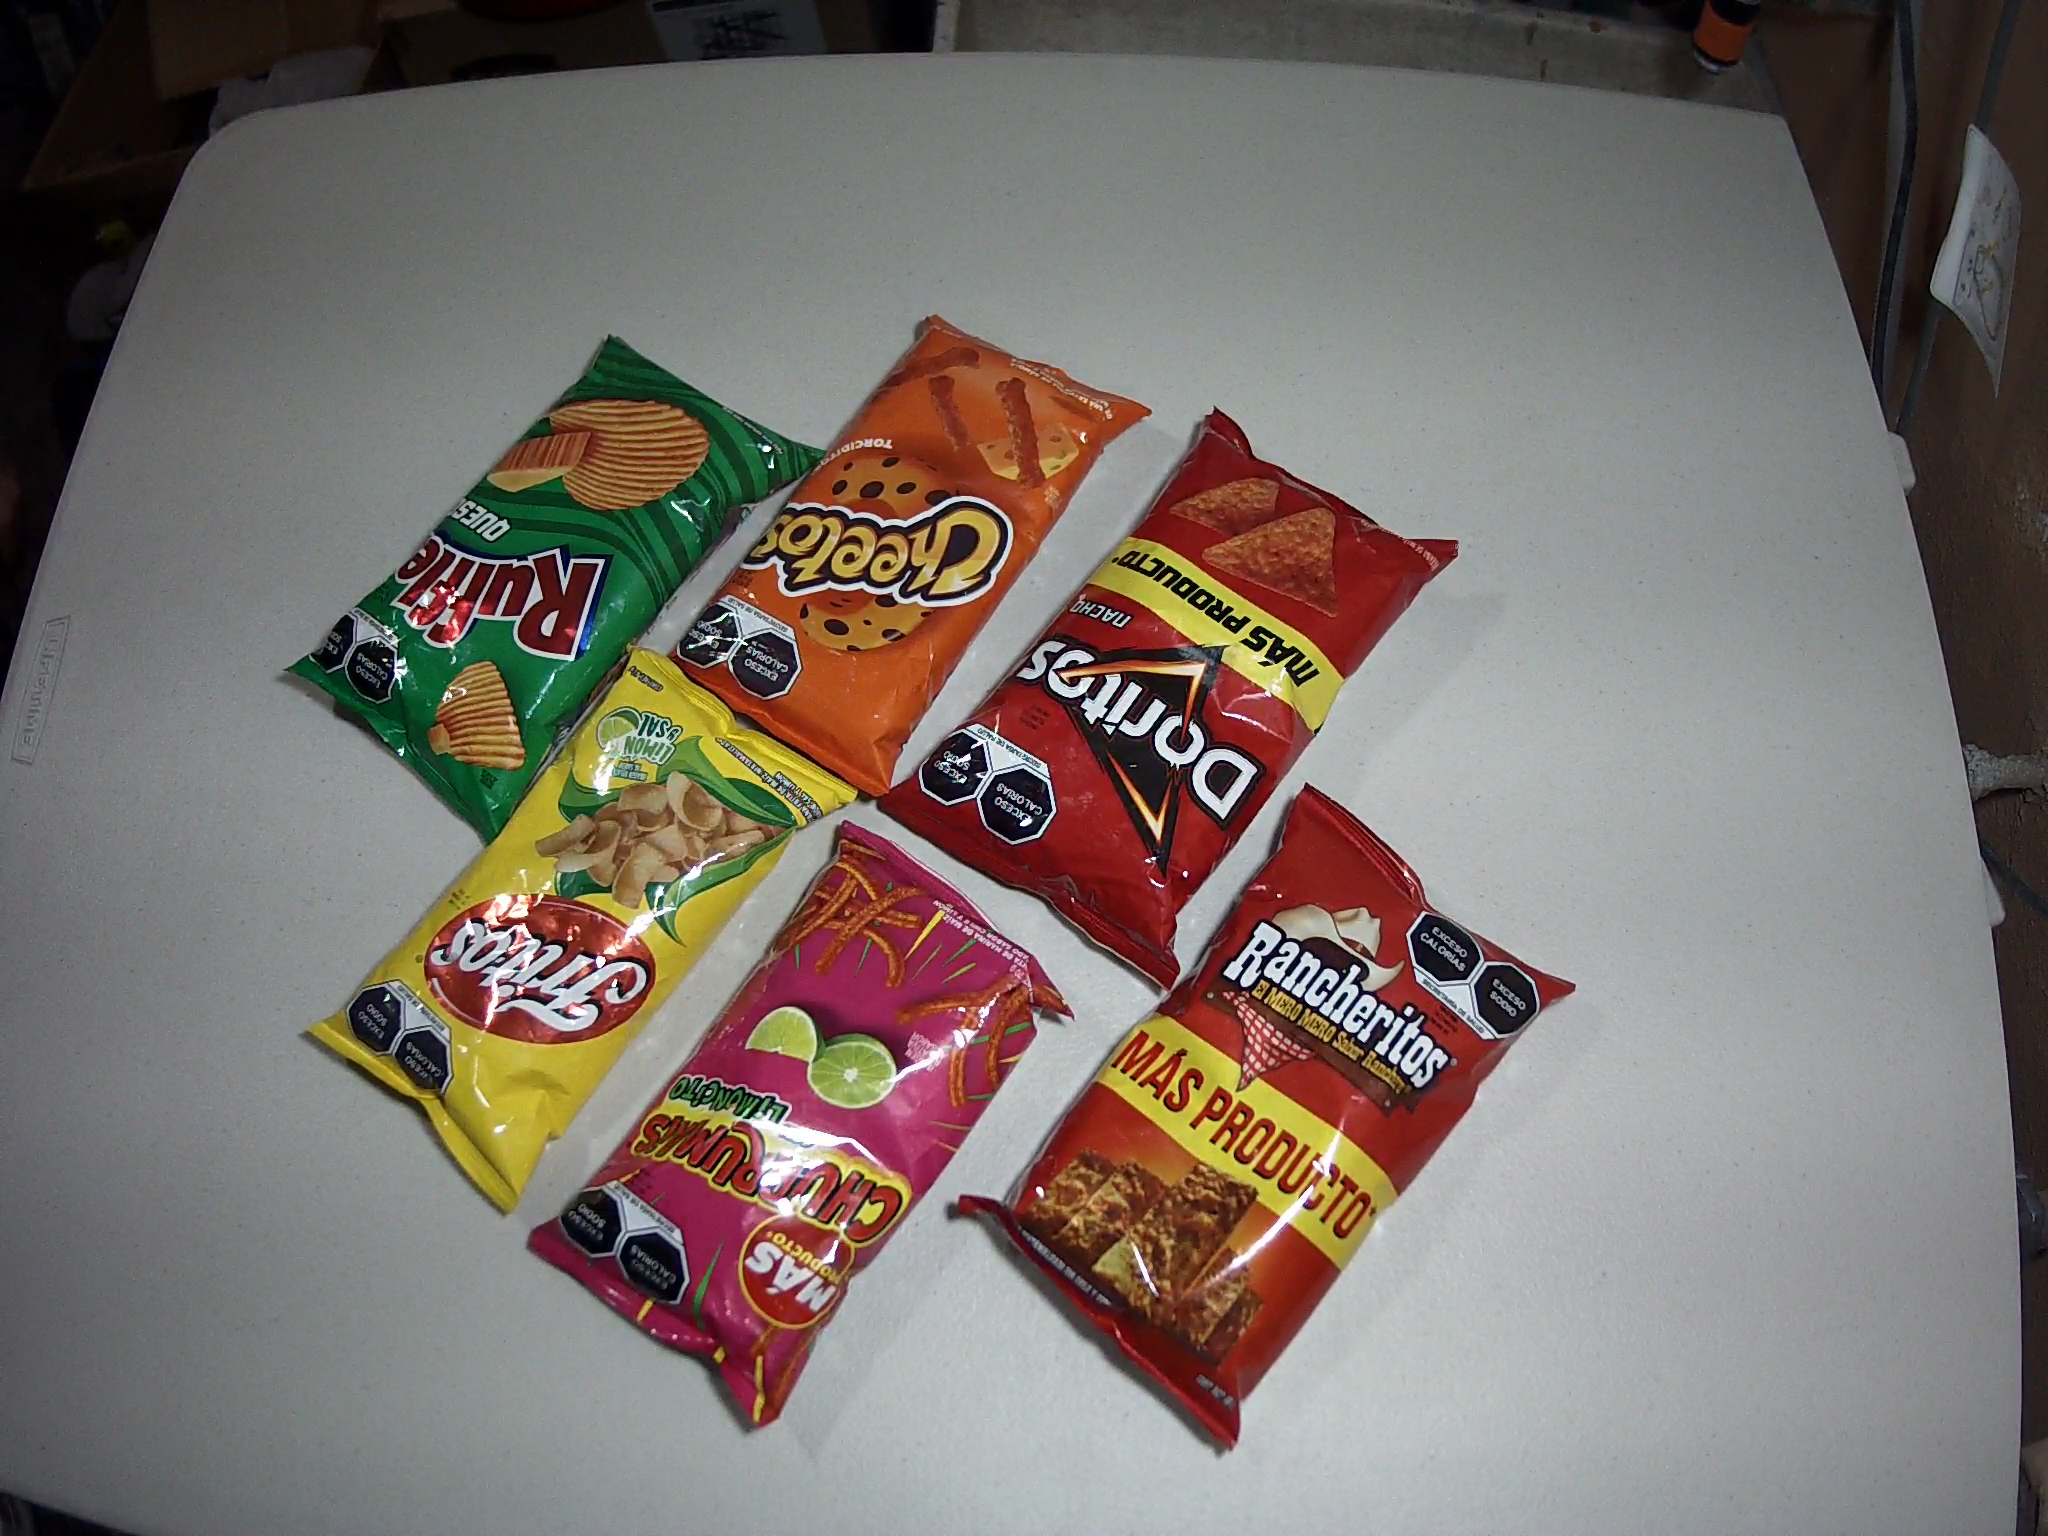CheetosTorciditos_55_F: (653, 316, 1151, 800)
Churrumais_70_F: (527, 821, 1077, 1426)
DoritosN_61_F: (879, 410, 1459, 994)
FritosSalLimon_65_F: (300, 641, 863, 1212)
Rancheritos_58_F: (956, 783, 1576, 1449)
RufflesQ_48_F: (282, 332, 830, 847)
